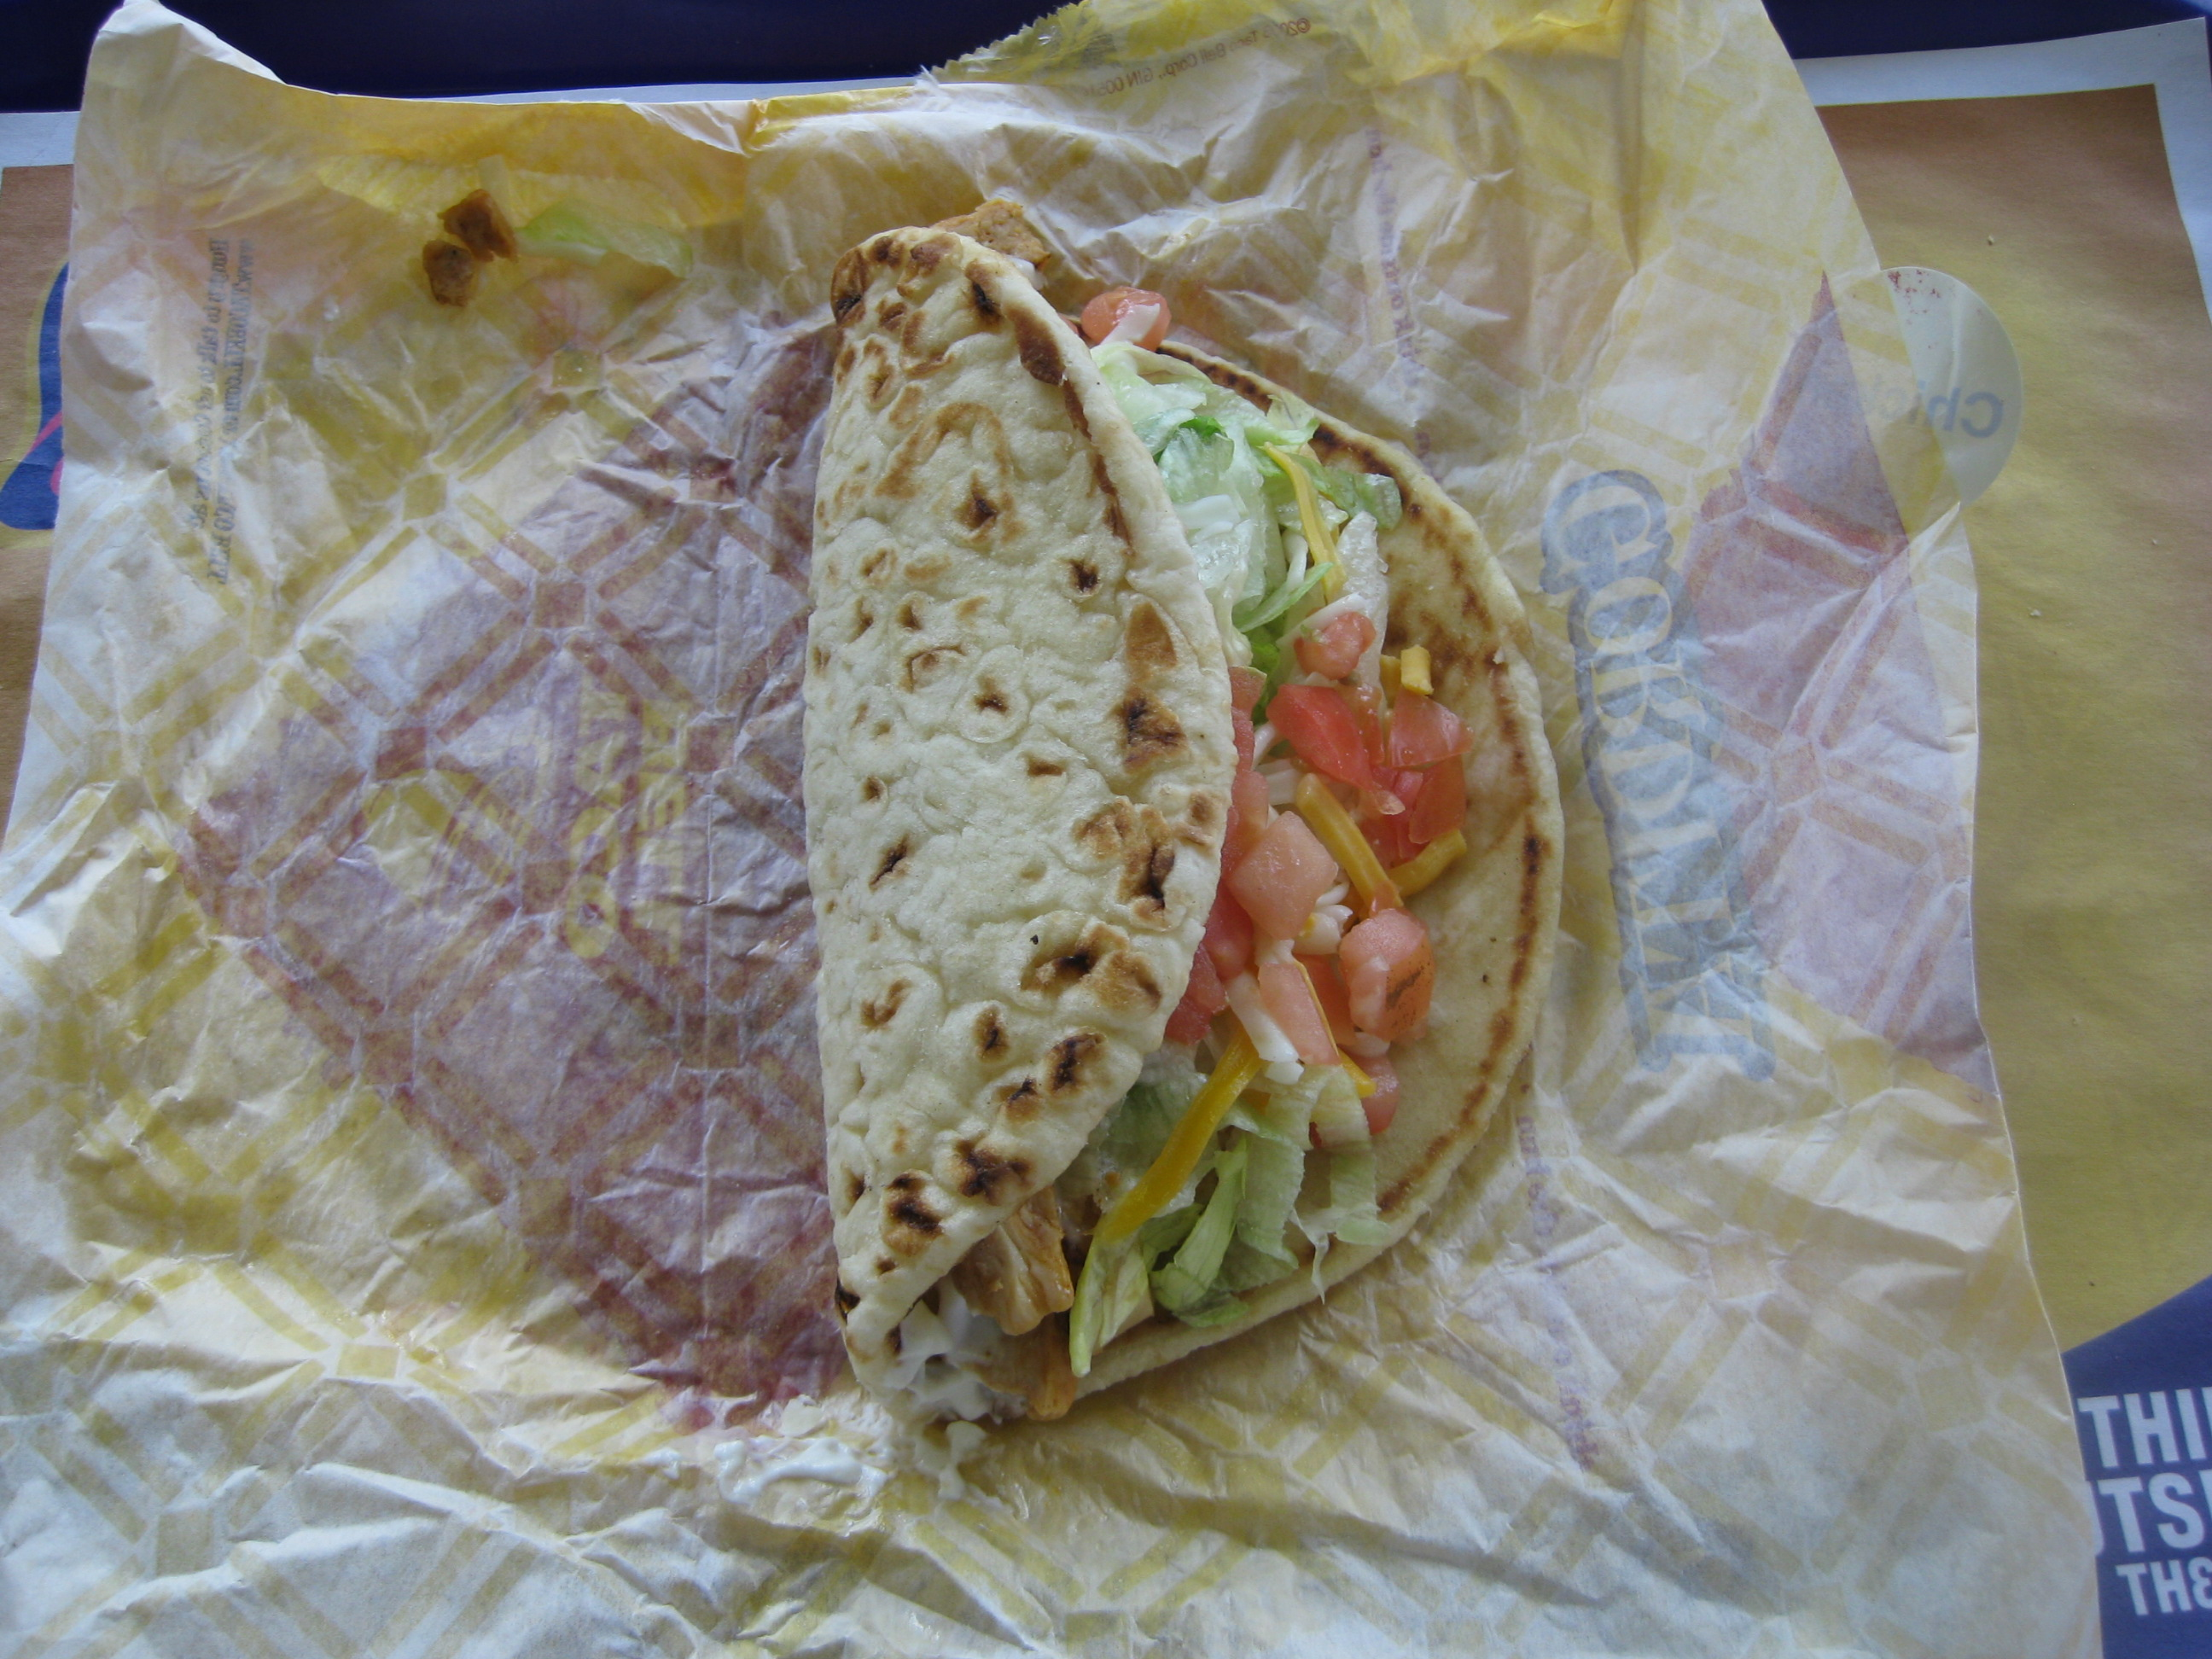taco: (750, 191, 1657, 1487)
